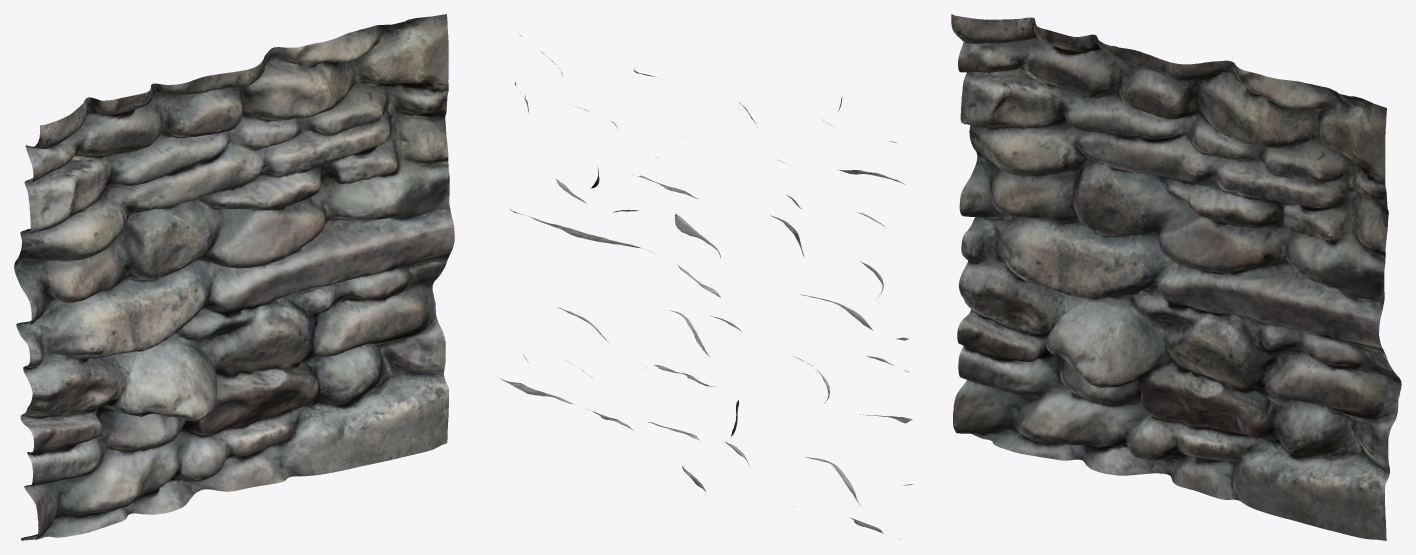
File: Normal-Cobblestone.glb
3 renders of one model, left to right at view 1: azimuth 30°, elevation 25°; view 2: azimuth 150°, elevation 25°; view 3: azimuth 330°, elevation 25°, orthographic. The views are drawn at different scales.
Parts seen in each view (by area): view 1: mesh; view 2: mesh; view 3: mesh.
Part boxes in pixels (box(x1,y1,x2,y2)): mesh: box(14, 14, 454, 540); mesh: box(500, 33, 913, 538); mesh: box(951, 14, 1401, 540).
Bounding box in the file's own units: 0.7221 × 0.7053 × 0.1156.
Materials: 1 (1 with a texture image).
